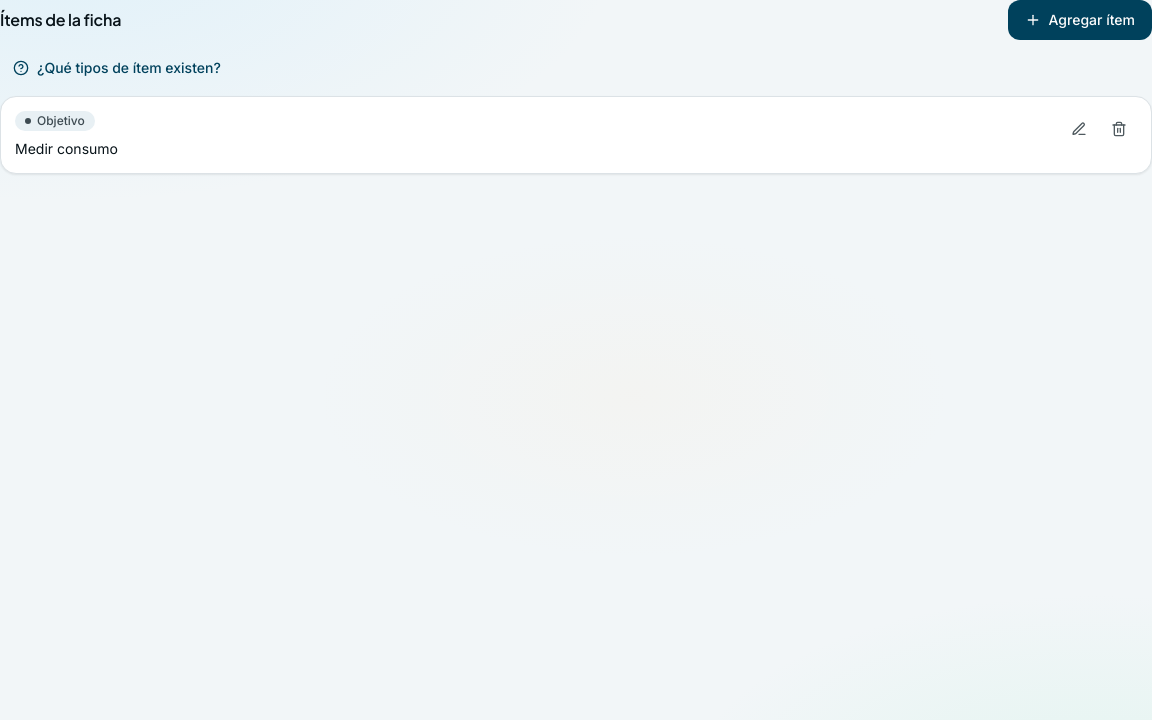
ItemsMiFichaPanel › eliminar › cancelar el diálogo no elimina el ítem
Click the button named "Eliminar ítem Objetivo" at (1119, 129), box [1101,111,1137,147]
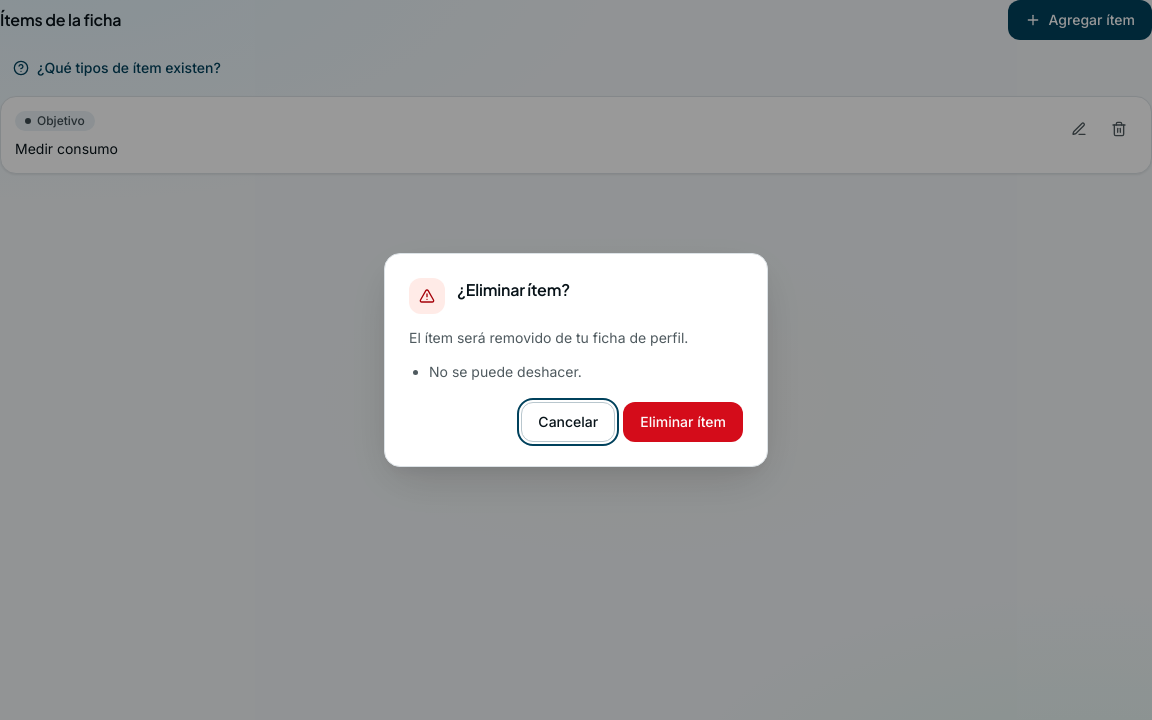
Click the button "Cancelar" at (568, 422), box [521,402,615,442]
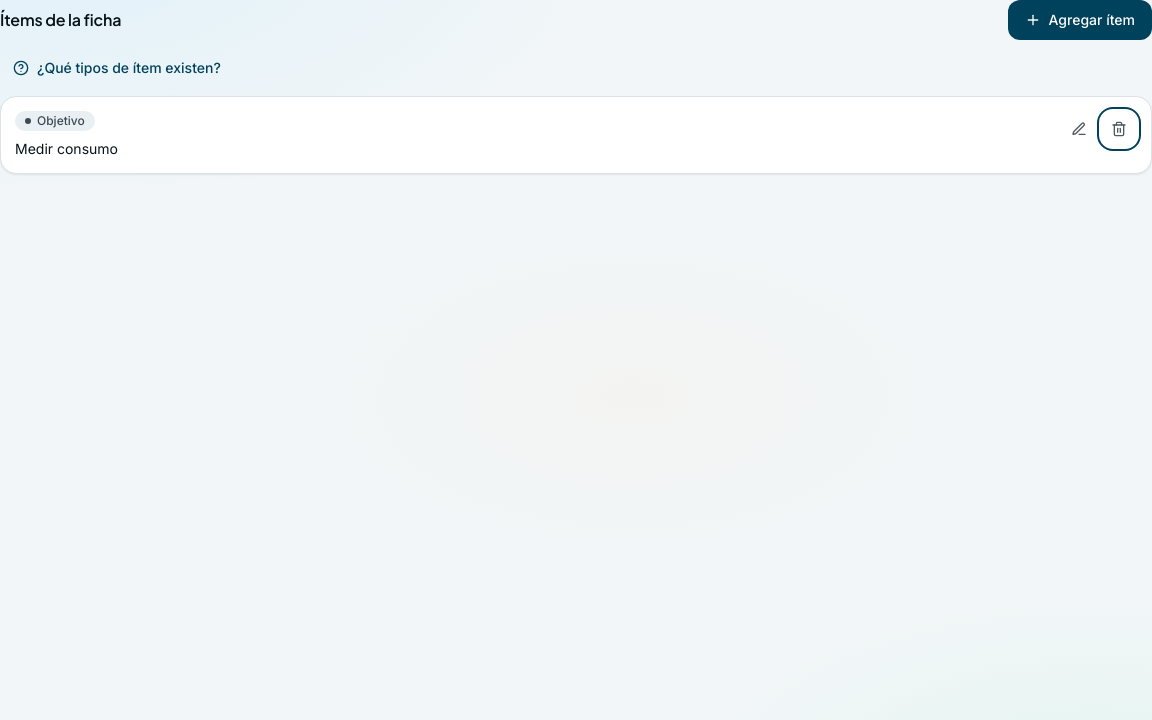
Expected: the dialog is gone
